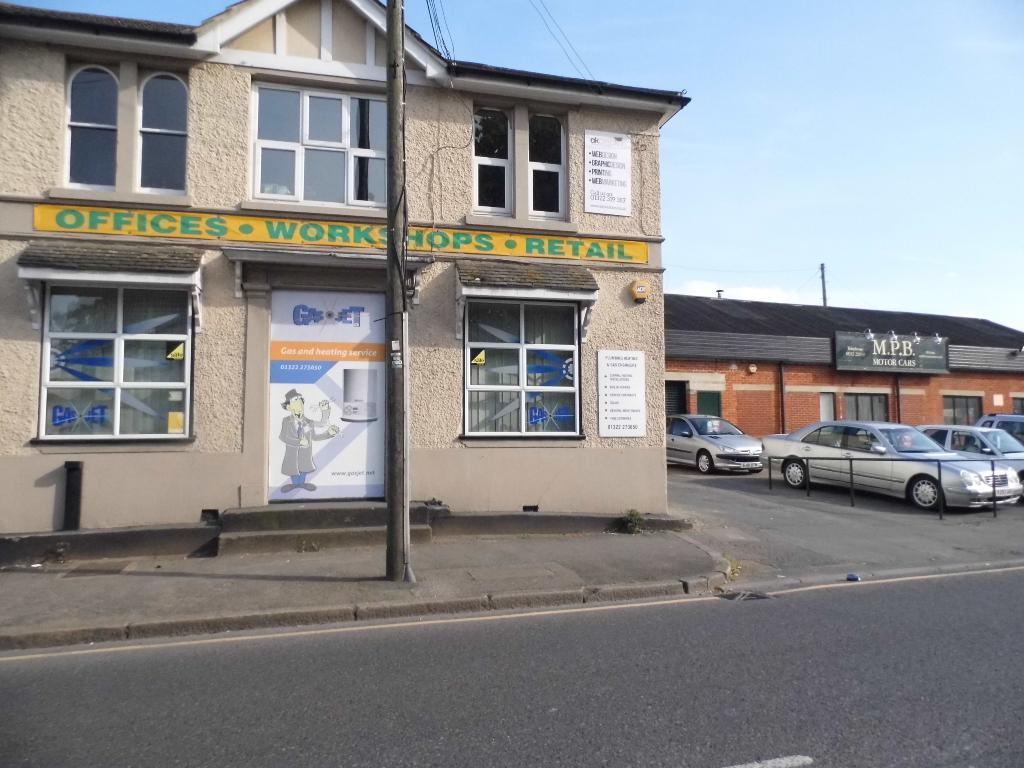Car: (760, 415, 1022, 510), (894, 418, 1023, 506), (662, 411, 761, 471), (919, 424, 1023, 477), (968, 406, 1023, 454), (983, 416, 1023, 433)
